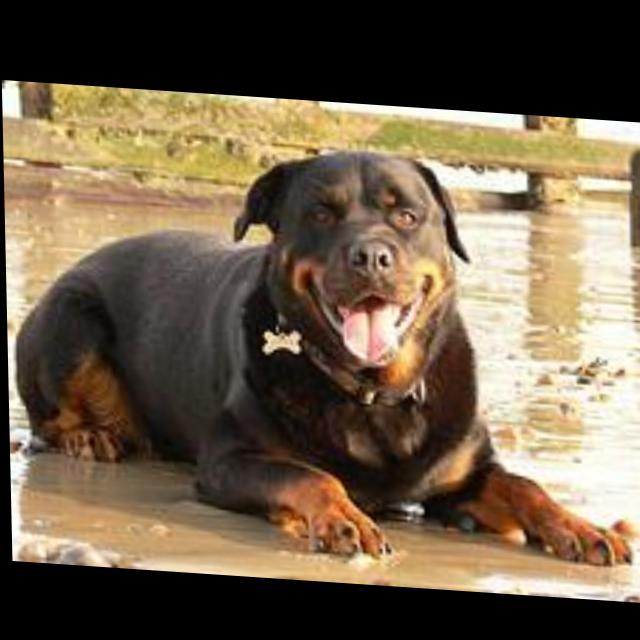rottweiler: (6, 123, 636, 568)
